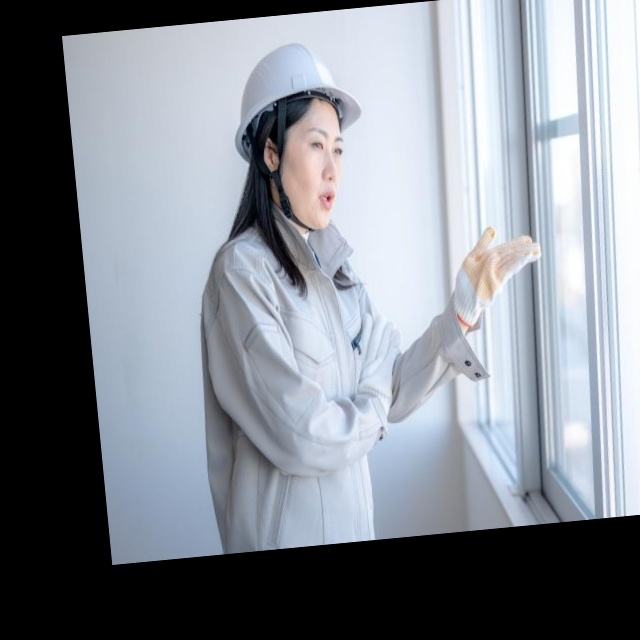Con_Casco: (226, 37, 370, 235)
Sin_Chaleco: (197, 220, 386, 553)
